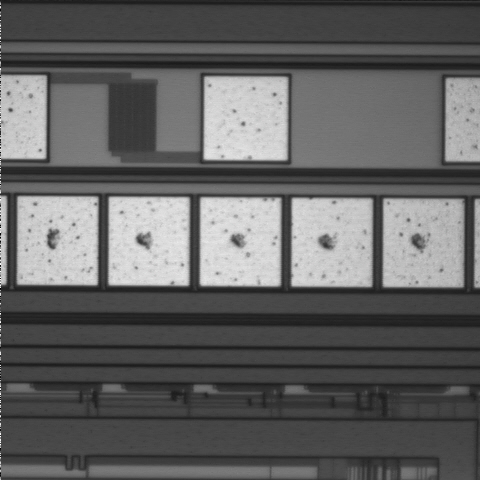pad: (200, 198, 281, 286), (18, 197, 98, 285), (109, 197, 189, 285), (292, 198, 372, 286), (383, 199, 462, 287), (204, 77, 287, 160)
